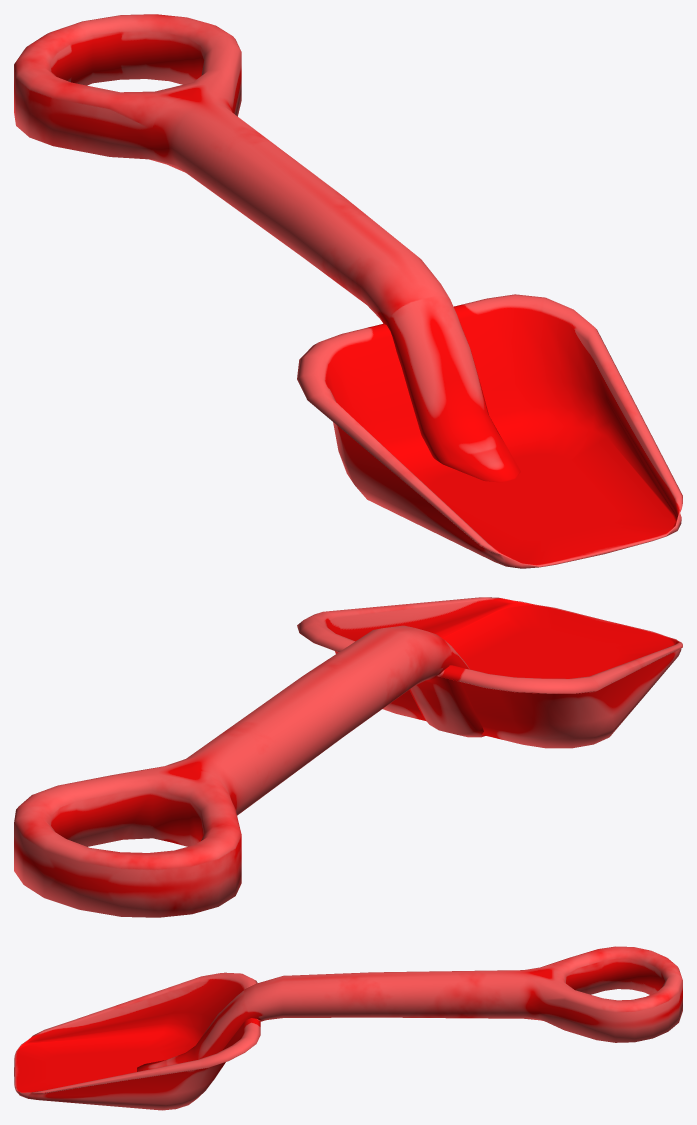
Rendered from Toy.shovels.fbx.
3 views of the same model, one above another, from view 1: azimuth 30°, elevation 25°; view 2: azimuth 150°, elevation 25°; view 3: azimuth 270°, elevation 25° (orthographic). The views are drawn at different scales.
Visible parts, largest first — view 1: Toy.shovels_low; view 2: Toy.shovels_low; view 3: Toy.shovels_low.
Part boxes in pixels (x1=…): Toy.shovels_low: x1=14, y1=14, x2=682, y2=568; Toy.shovels_low: x1=14, y1=597, x2=682, y2=917; Toy.shovels_low: x1=14, y1=946, x2=682, y2=1110.
Size of the model in its own units: 31.6 by 17.33 by 99.2.
1 material, 1 textured.
